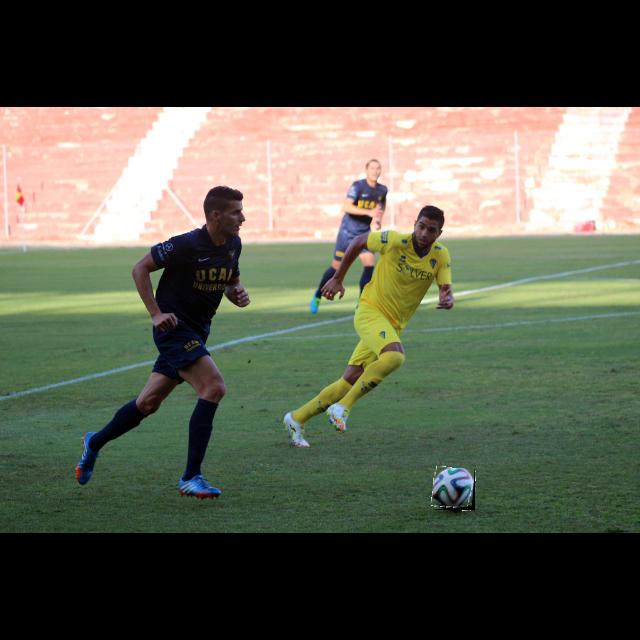Football: (433, 468, 475, 510)
